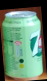sevenup: (3, 11, 44, 78)
